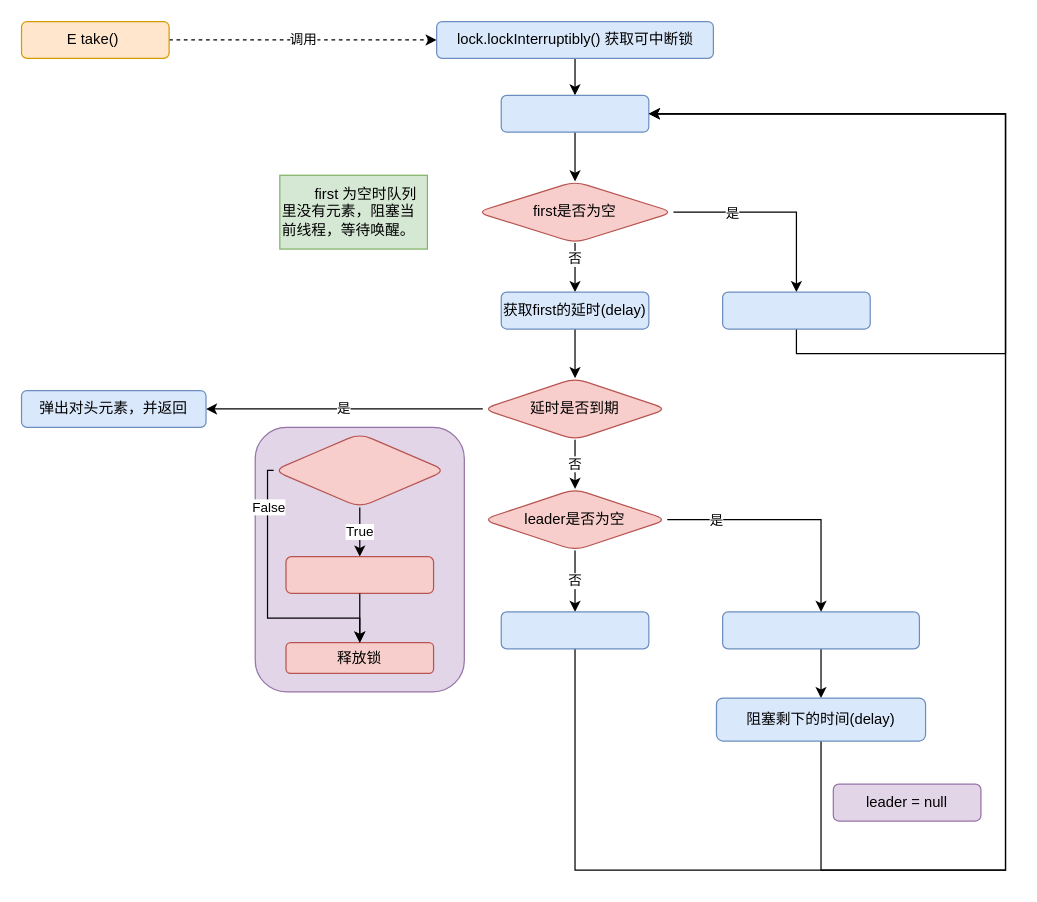
Image size: 1037x902. Some labels were removed from this diagram. The shapes that lost their labels are listed below. From the top down, each one's centre as x and y in pixels, then its label:
point 574,113: 获取队头元素(first)
point 795,310: available.await() 阻塞
point 359,469: leader为空并且 优先级队列不为空
point 359,574: 通知其他的线程
point 574,630: 阻塞当前线程
point 820,630: 把当前线程赋值给 leader
